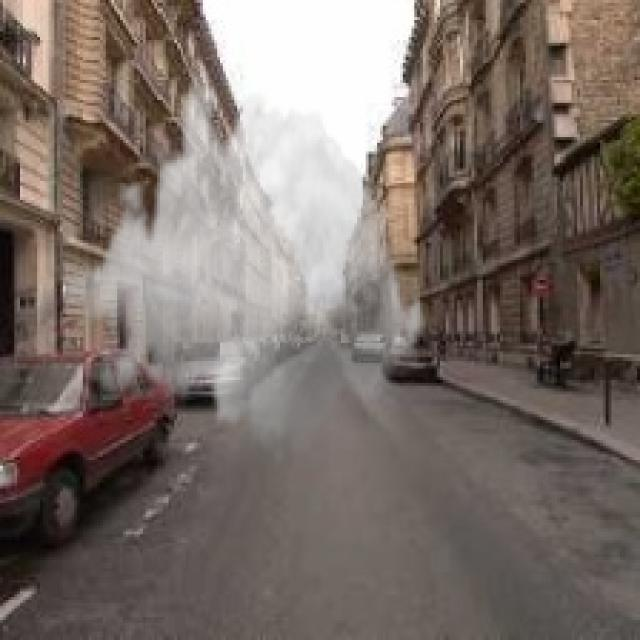Smoke: (60, 66, 429, 472)
